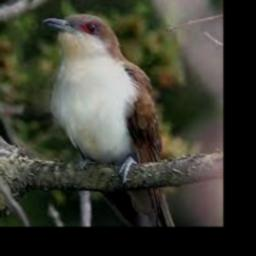Cuckoo: (42, 14, 175, 226)
